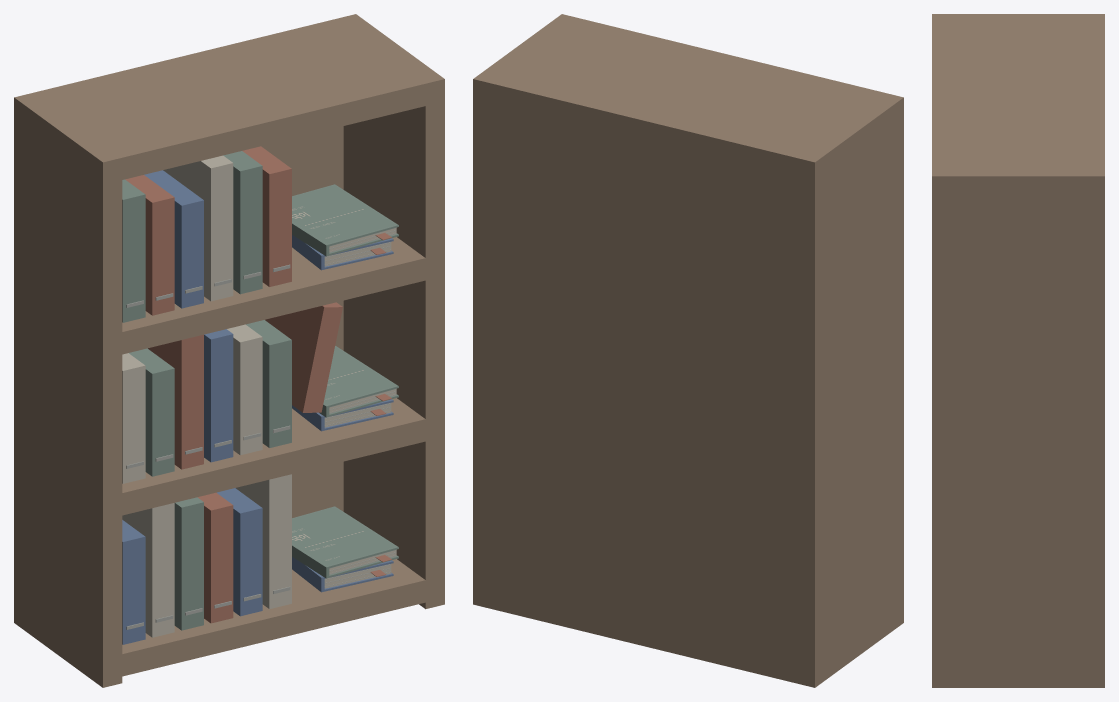
The model's file is room-student-bookshelf.glb.
The picture shows the model from 3 angles, left to right: view 1: azimuth 30°, elevation 25°; view 2: azimuth 150°, elevation 25°; view 3: azimuth 270°, elevation 25°; orthographic projection. The views are drawn at different scales.
Visible parts, largest first — view 1: room-student-bookshelf; view 2: room-student-bookshelf; view 3: room-student-bookshelf.
Part boxes in pixels (x1=…): room-student-bookshelf: x1=14, y1=14, x2=444, y2=687; room-student-bookshelf: x1=473, y1=14, x2=903, y2=687; room-student-bookshelf: x1=932, y1=14, x2=1104, y2=687.
Bounding box in the file's own units: 1.6 × 2.35 × 0.7201.
Materials: 7 (1 with a texture image).
